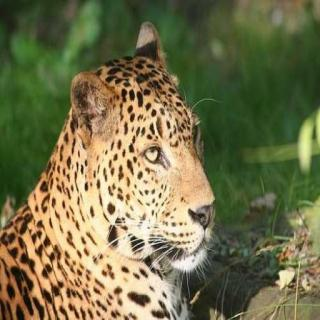Leopard: (11, 21, 218, 308)
